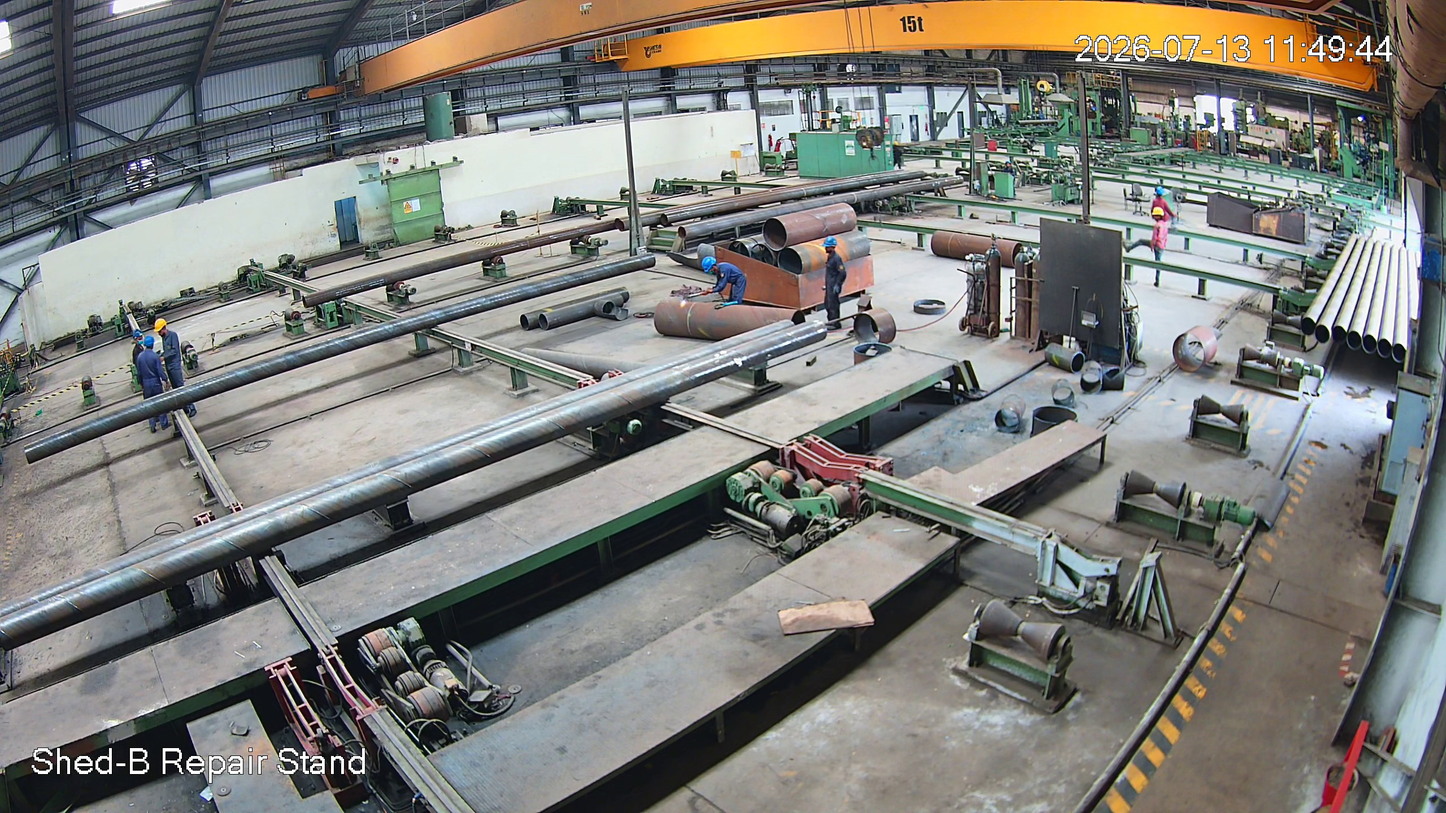Helmet: (700, 253, 720, 277), (154, 318, 173, 342), (822, 235, 841, 254), (142, 336, 158, 352), (1150, 206, 1168, 220)
Person: (155, 320, 194, 418), (137, 337, 167, 428), (702, 257, 747, 309), (822, 238, 845, 331), (1142, 209, 1170, 283)
